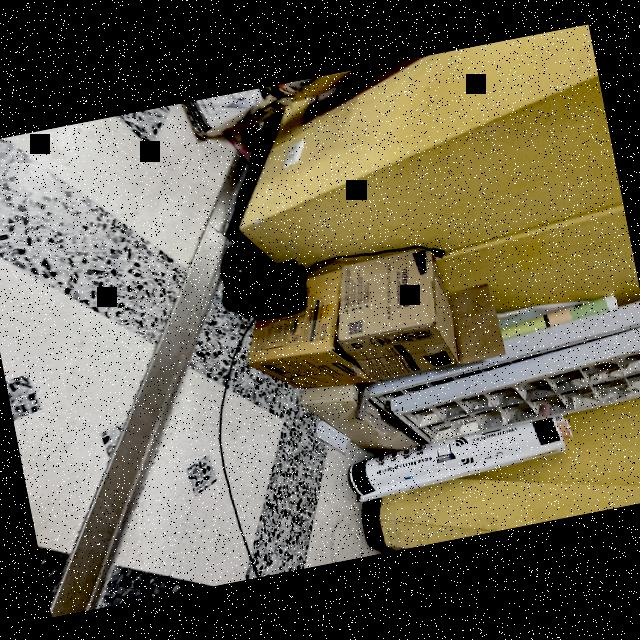cardboard_box: (316, 234, 514, 395), (239, 259, 368, 402), (298, 367, 427, 475)
